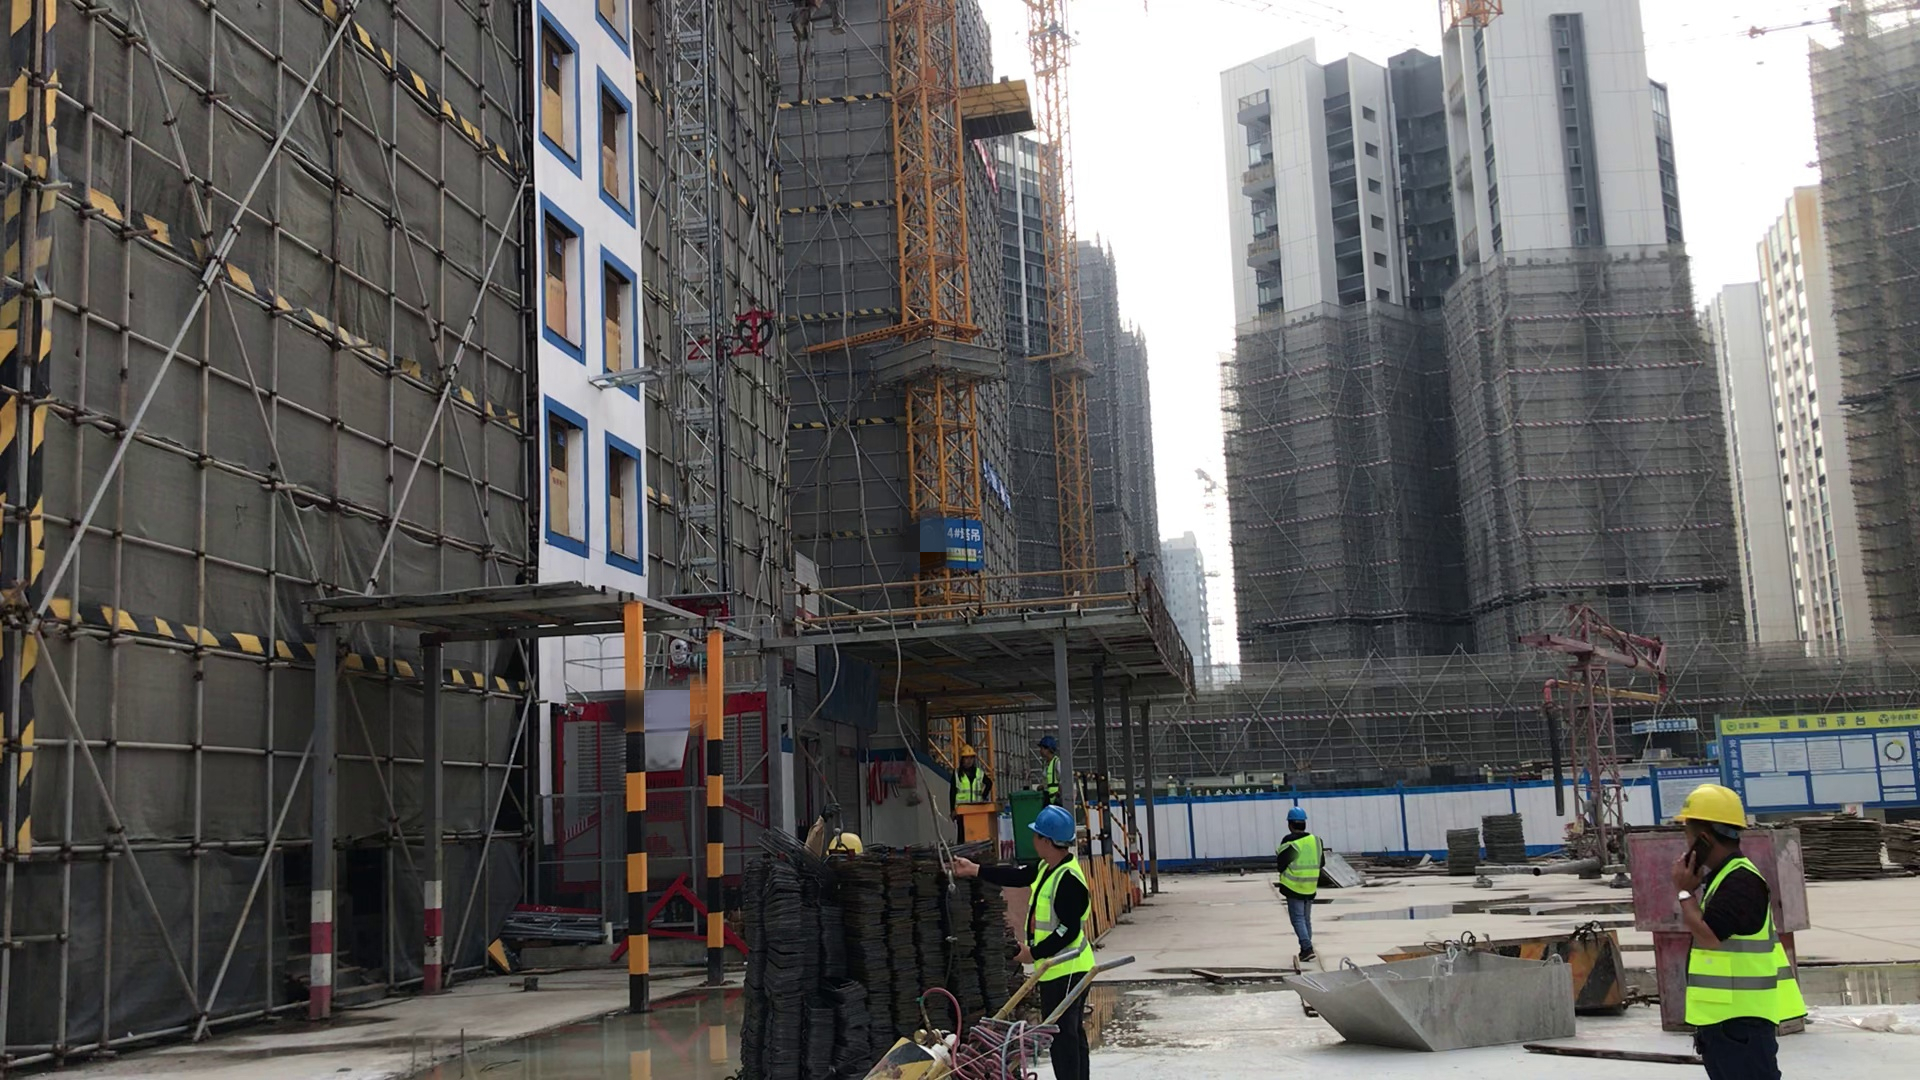board: (1793, 811, 1880, 881), (1479, 811, 1535, 865), (1447, 822, 1485, 882)
fence: (1081, 764, 1179, 908)
helmet: (1671, 777, 1753, 832), (1032, 806, 1078, 845), (828, 825, 869, 856), (1288, 806, 1313, 824), (1037, 735, 1060, 752), (961, 737, 979, 760)
hopper: (1309, 944, 1582, 1052), (1428, 922, 1642, 1022)
person: (1658, 771, 1810, 1080), (956, 807, 1106, 1078), (1272, 803, 1325, 963), (947, 737, 996, 811), (1033, 732, 1063, 804)
vest: (1684, 865, 1806, 1036), (1021, 861, 1100, 986), (1280, 828, 1321, 900), (957, 767, 988, 809), (1042, 759, 1063, 805)
